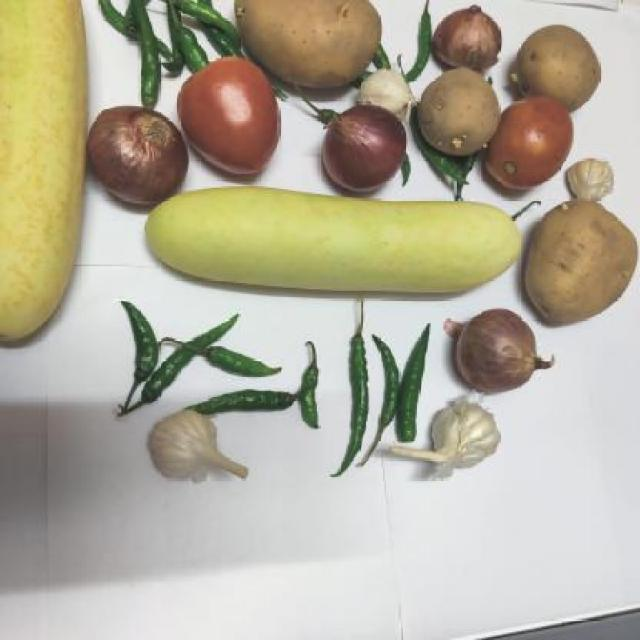Garlic: (138, 409, 260, 500), (389, 396, 506, 490)
Green Chili: (109, 296, 297, 418), (294, 316, 436, 450), (100, 0, 228, 68)
Onion: (77, 103, 188, 212), (304, 102, 410, 204), (449, 308, 551, 404)
Potato: (520, 197, 640, 328), (404, 66, 510, 162), (506, 17, 603, 114)
Tomato: (172, 57, 290, 186)
cucumber: (136, 186, 522, 303)
